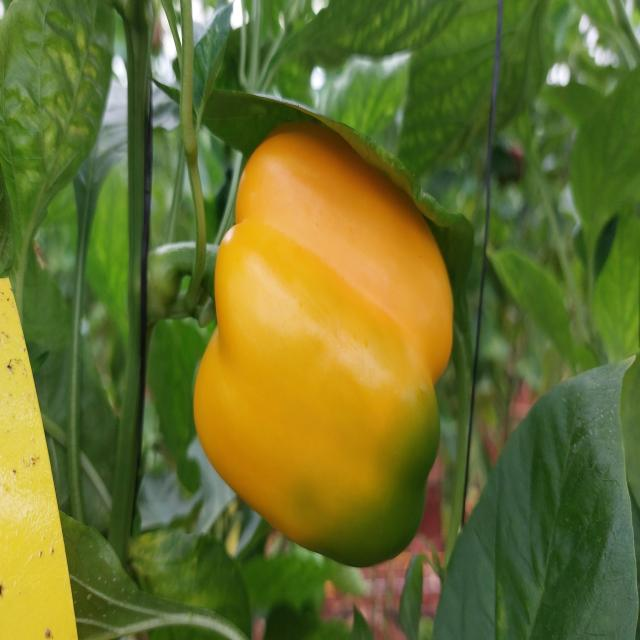Yellow-Ready-to-Harvest: (191, 113, 459, 574)
